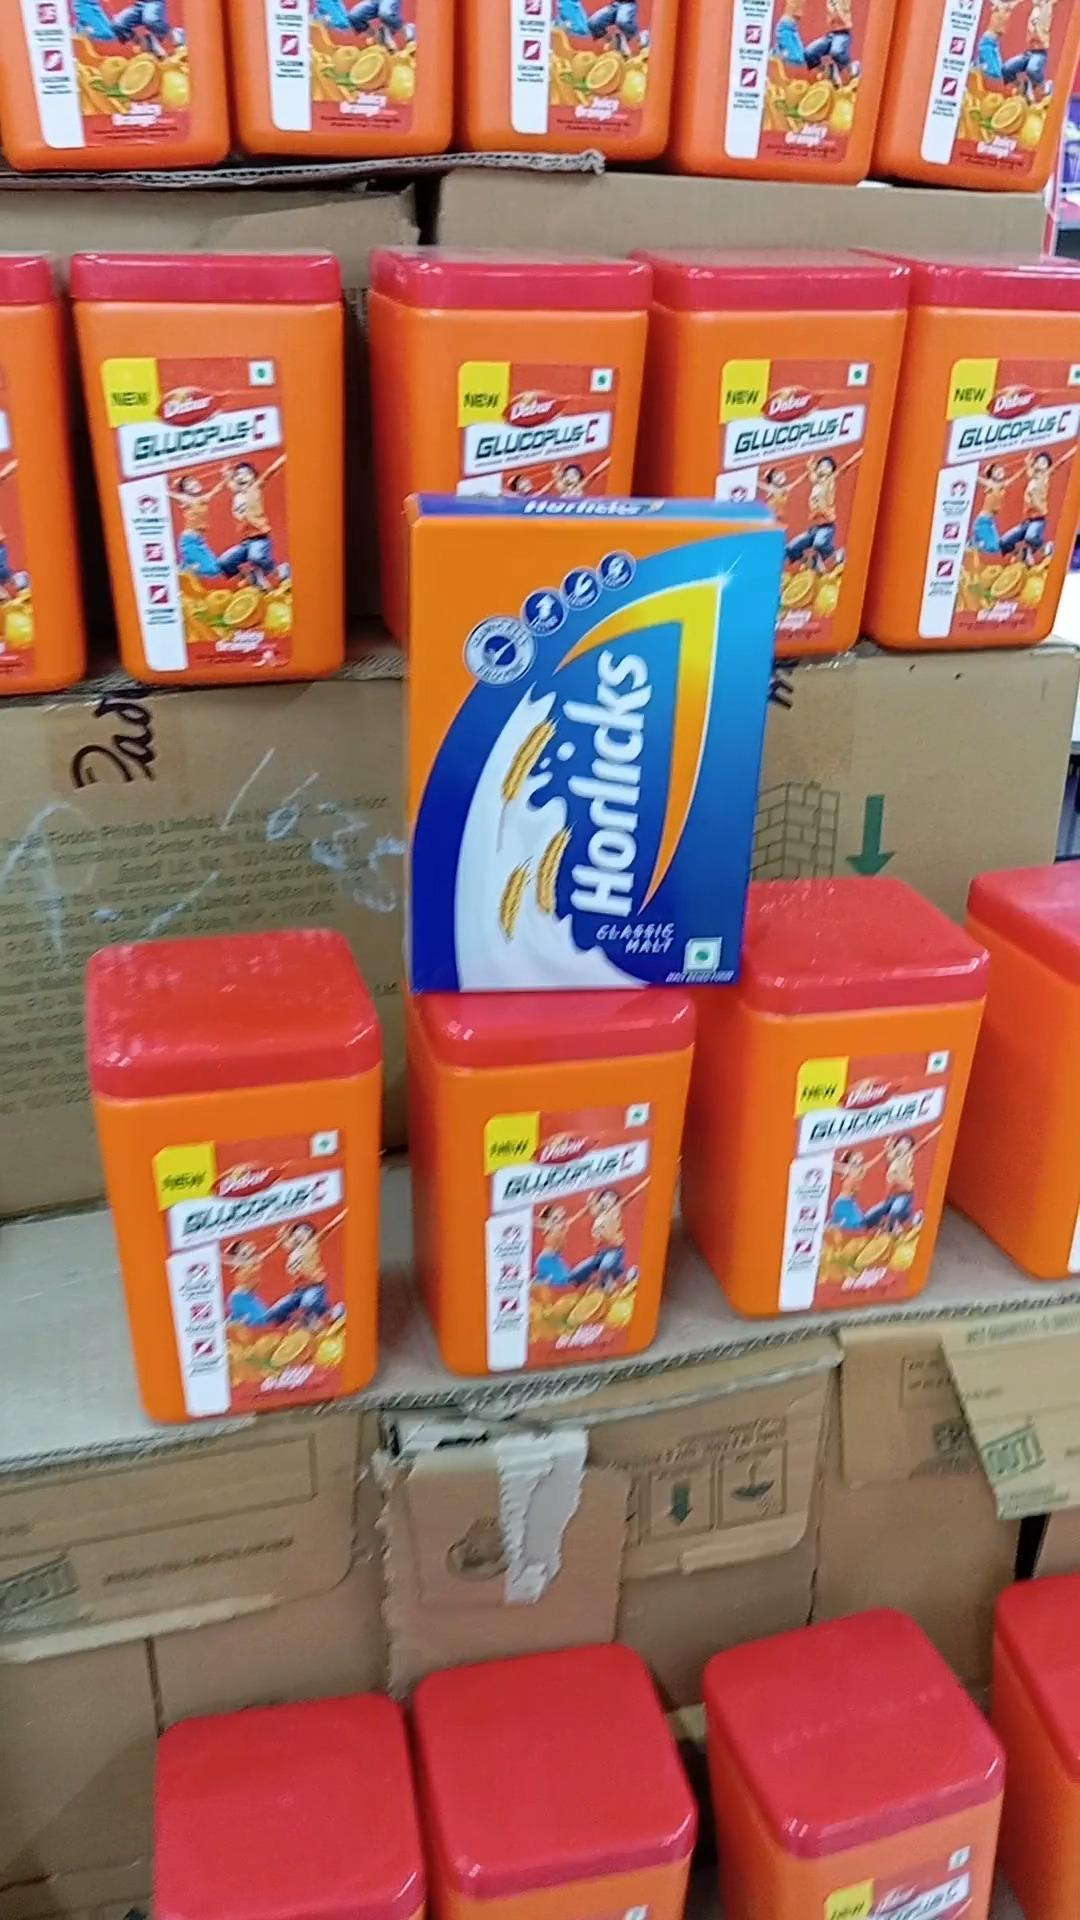HORLICK_CLASSIC_MALT_500_G_PACK: (415, 509, 793, 986)
